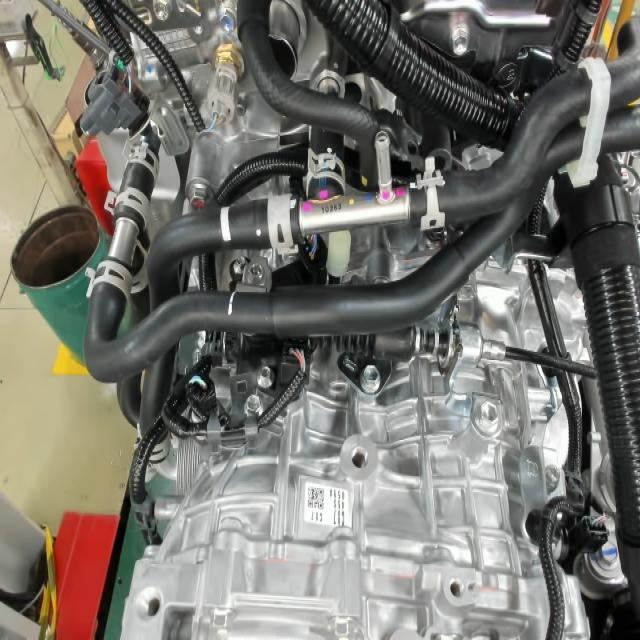Transaxele-C87-A27: (307, 508, 348, 531)
